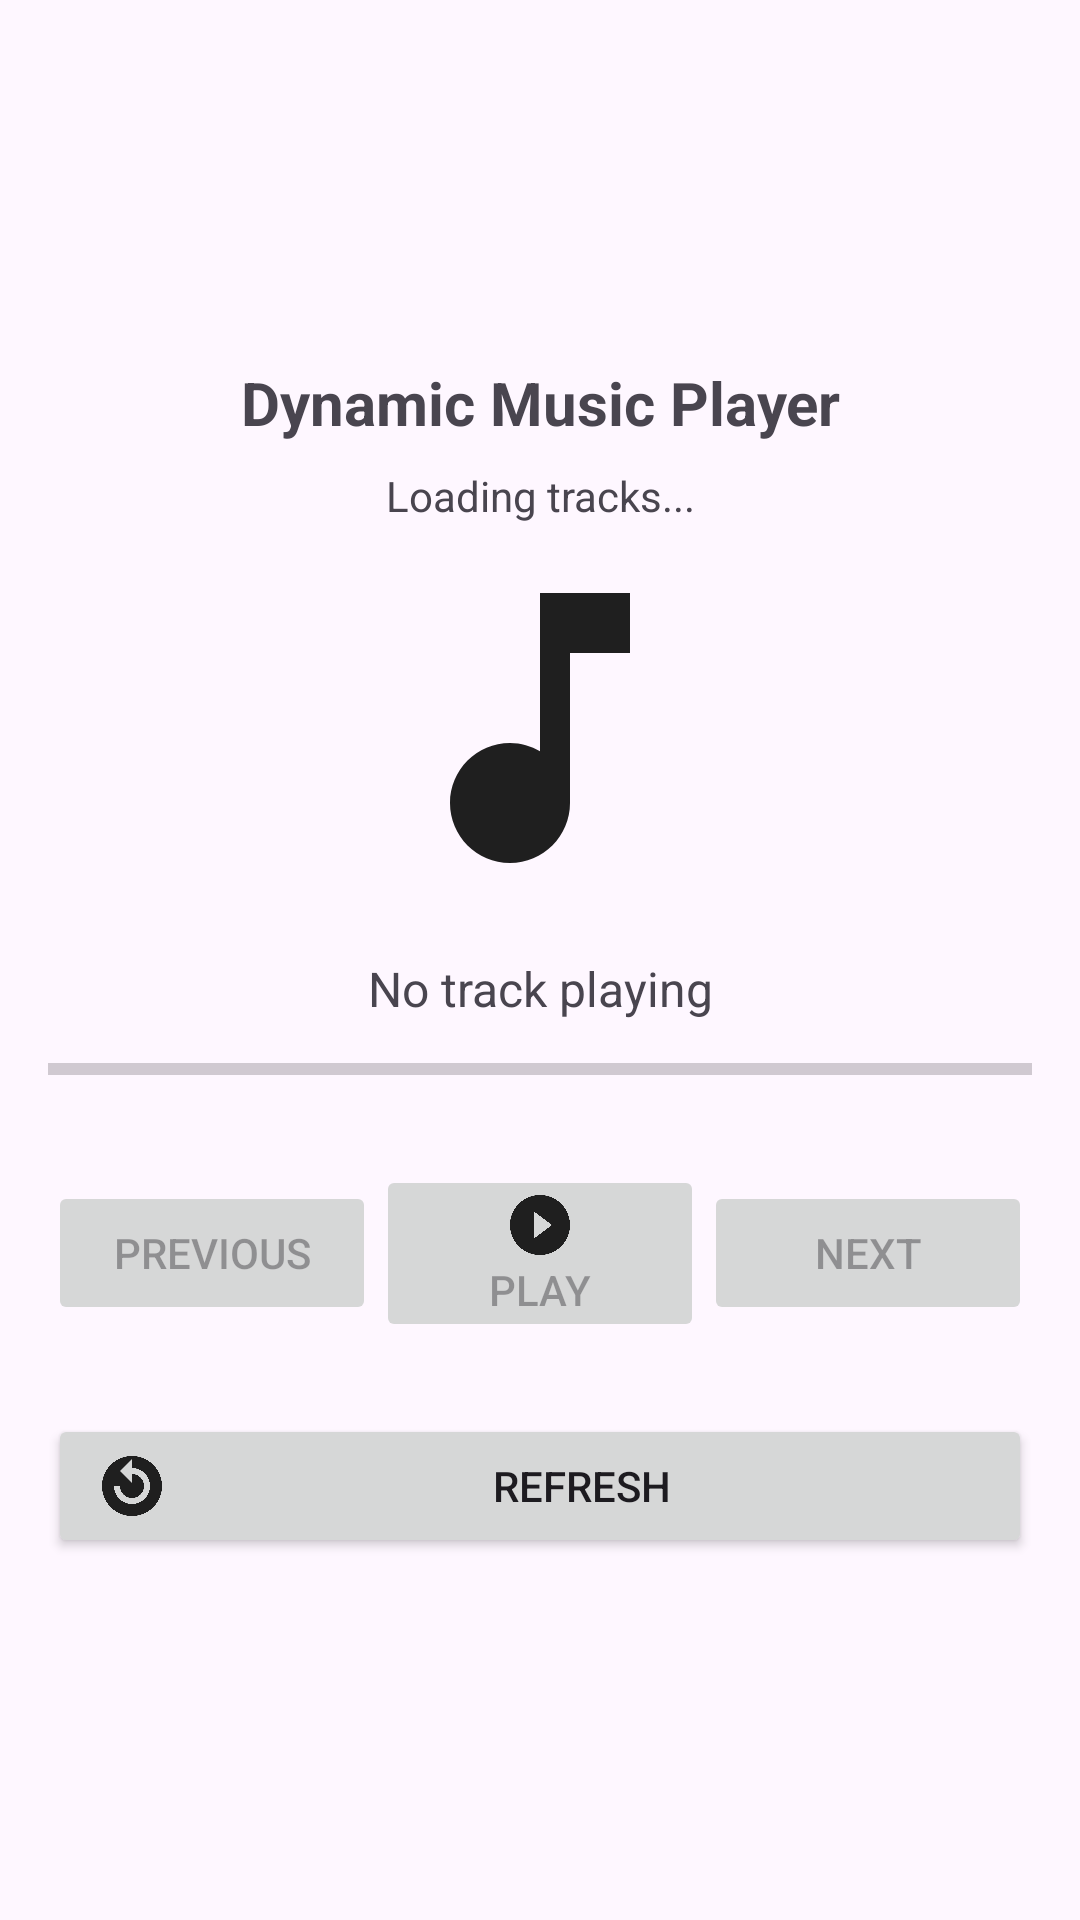

Screen size 1080px×1920px. Icon name, then its center in pixels as (x=x, y=y):
music note: (x=540, y=728)
